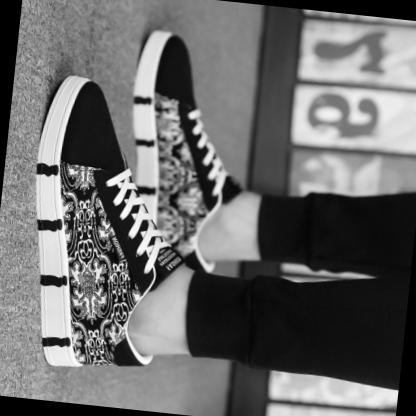ankle: (118, 303, 125, 310), (197, 226, 201, 229)
heel: (79, 358, 86, 365), (170, 260, 173, 262)
left_foot: (116, 29, 239, 274)
pinky: (66, 131, 73, 142), (185, 65, 189, 68)
right_foot: (16, 73, 166, 375)
toe: (161, 58, 165, 62), (97, 95, 101, 99)
